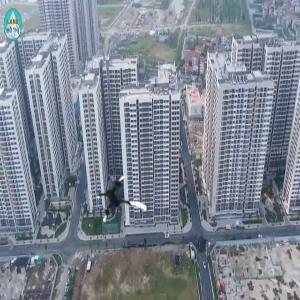drone: (93, 175, 151, 233)
